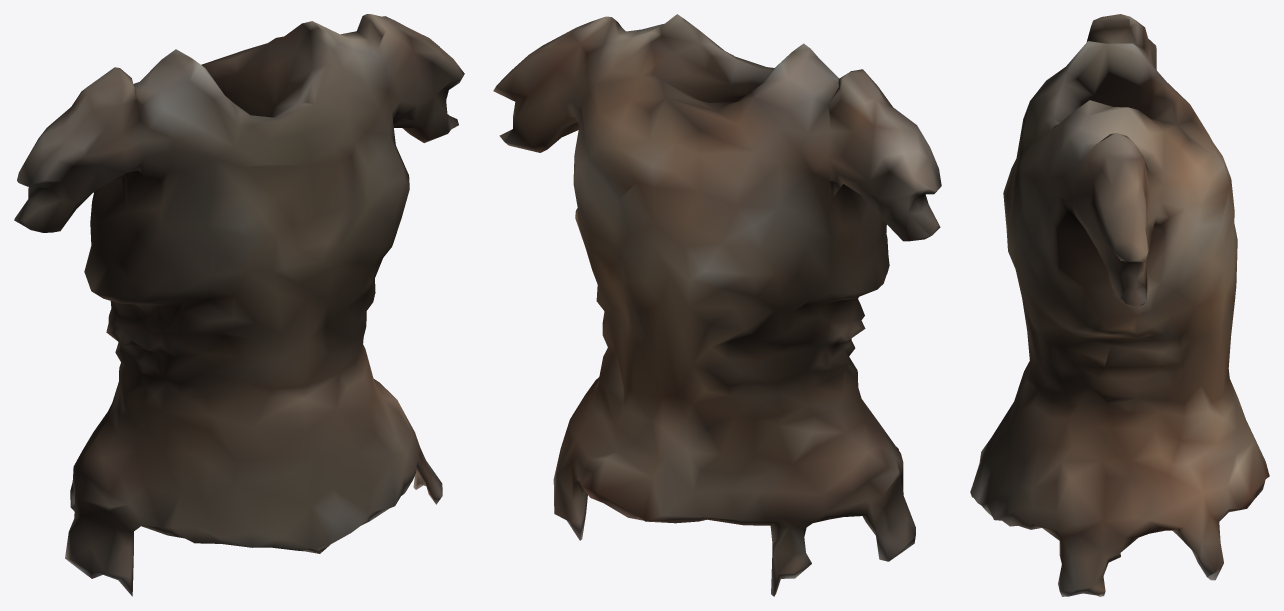
Rendered from Armor1.fbx.
3 renders of one model, left to right at view 1: azimuth 30°, elevation 25°; view 2: azimuth 150°, elevation 25°; view 3: azimuth 270°, elevation 25°, orthographic. The views are drawn at different scales.
Visible parts, largest first — view 1: tmp3zxfq79e; view 2: tmp3zxfq79e; view 3: tmp3zxfq79e.
Part boxes in pixels (x1,y1,x2,y2): tmp3zxfq79e: [14, 14, 464, 596]; tmp3zxfq79e: [493, 14, 941, 596]; tmp3zxfq79e: [970, 14, 1269, 596].
Bounding box in the file's own units: 175 × 187 × 109.
